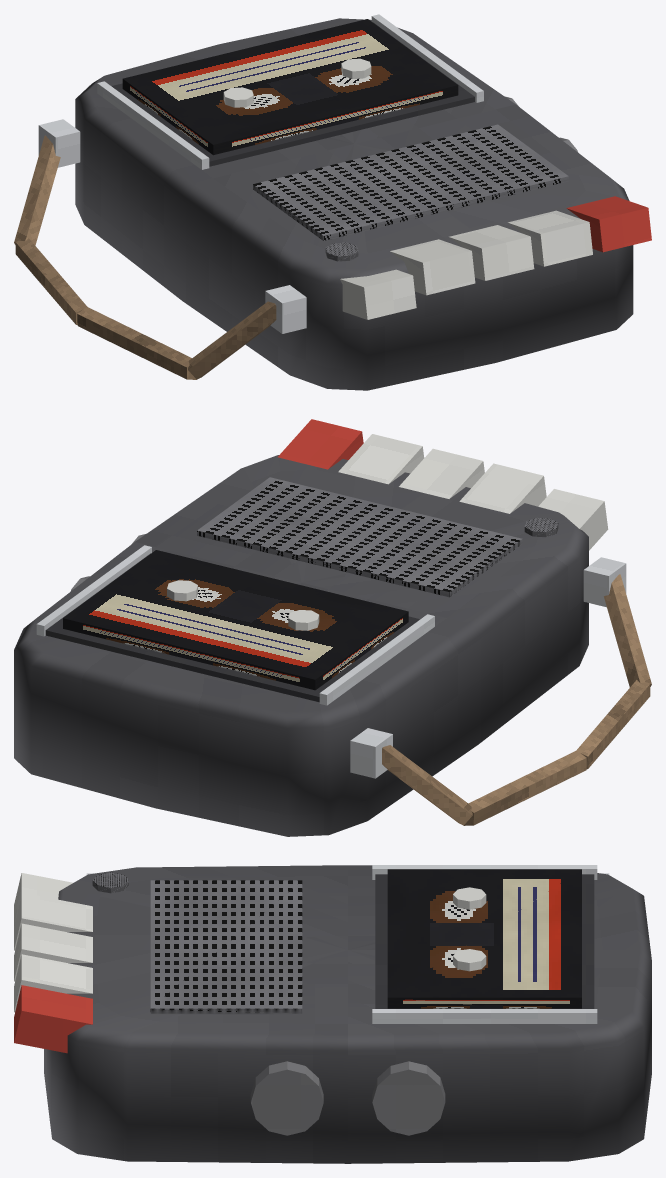
Rendered from item_recorder.glb.
The picture shows the model from 3 angles, top to bottom: view 1: azimuth 30°, elevation 25°; view 2: azimuth 150°, elevation 25°; view 3: azimuth 270°, elevation 25°; orthographic projection. The views are drawn at different scales.
Parts seen in each view (by area): view 1: recorder; view 2: recorder; view 3: recorder.
Boxes of the visible parts, <box> form: recorder: <box>14,14,651,390</box>; recorder: <box>14,419,651,836</box>; recorder: <box>14,865,651,1163</box>.
Bounding box in the file's own units: 0.1892 × 0.0548 × 0.2099.
Materials: 9 (9 with a texture image).
